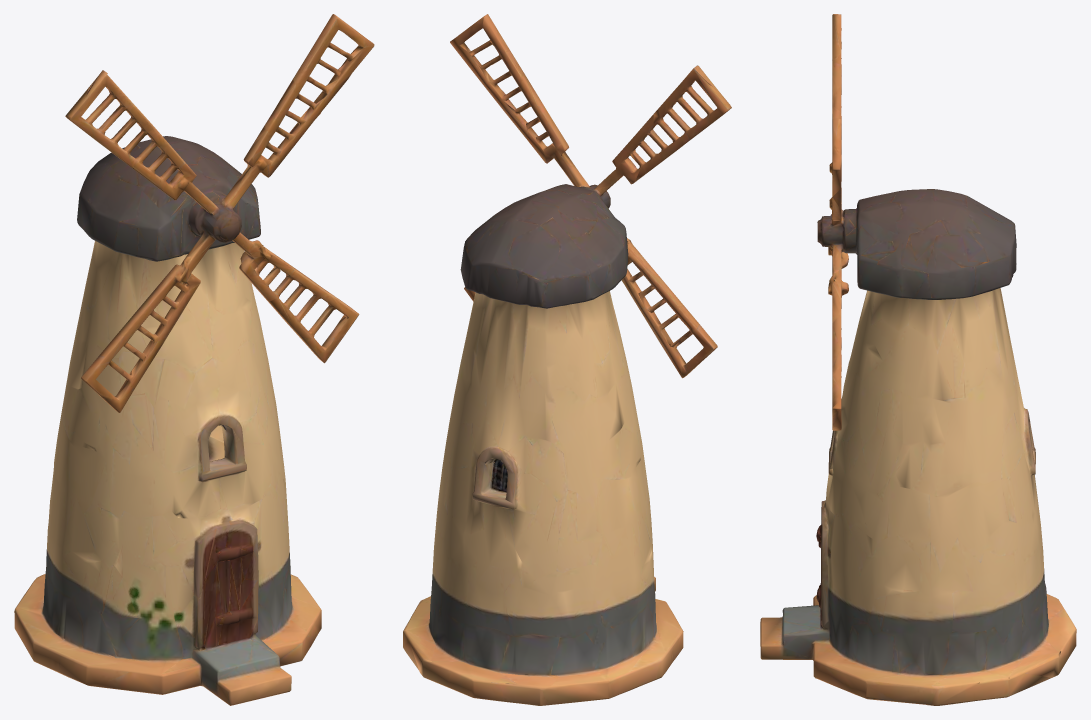
The model's file is windmill.glb.
The picture shows the model from 3 angles, left to right: view 1: azimuth 30°, elevation 25°; view 2: azimuth 150°, elevation 25°; view 3: azimuth 270°, elevation 25°; orthographic projection. The views are drawn at different scales.
Bounding box in the file's own units: 0.9741 × 1.91 × 0.9429.
Materials: 1 (1 with a texture image).
